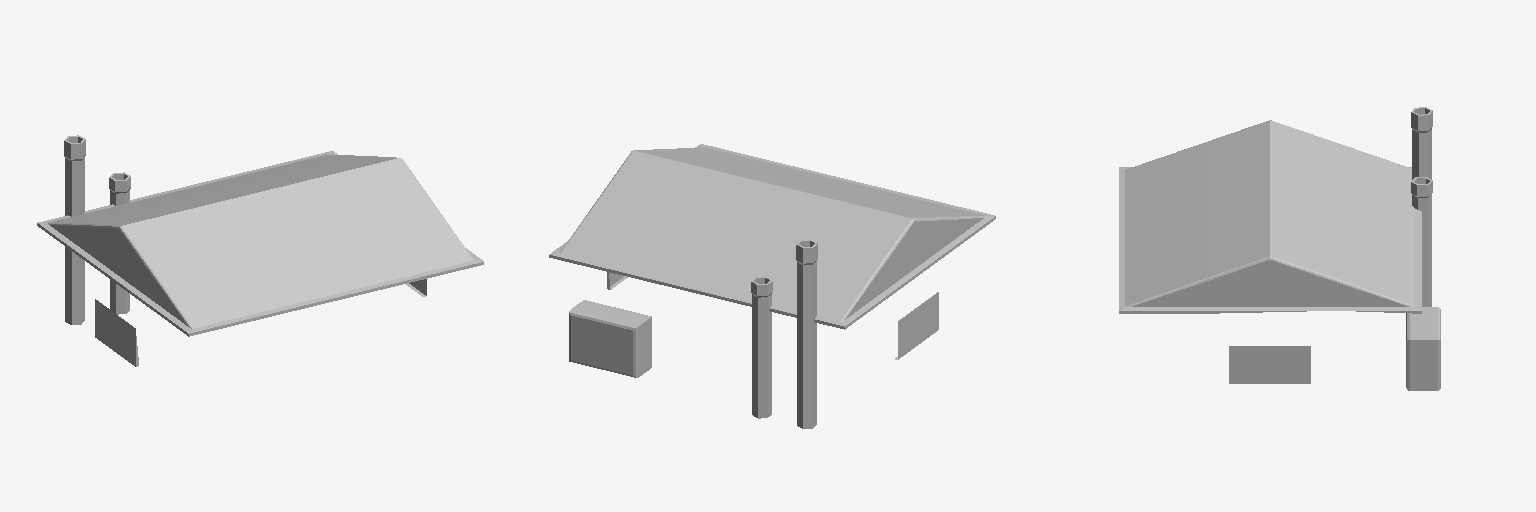
The model's file is lt2atap.obj.
3 renders of one model, left to right at view 1: azimuth 30°, elevation 25°; view 2: azimuth 150°, elevation 25°; view 3: azimuth 270°, elevation 25°, orthographic.
Parts seen in each view (by area): view 1: Shop_Low_5; view 2: Shop_Low_5; view 3: Shop_Low_5.
Boxes of the visible parts, box(x1,y1,x2,y2) form: Shop_Low_5: box(37, 135, 483, 366); Shop_Low_5: box(549, 144, 995, 428); Shop_Low_5: box(1119, 107, 1440, 390).
Size of the model in its own units: 9.75 by 5.73 by 9.2.